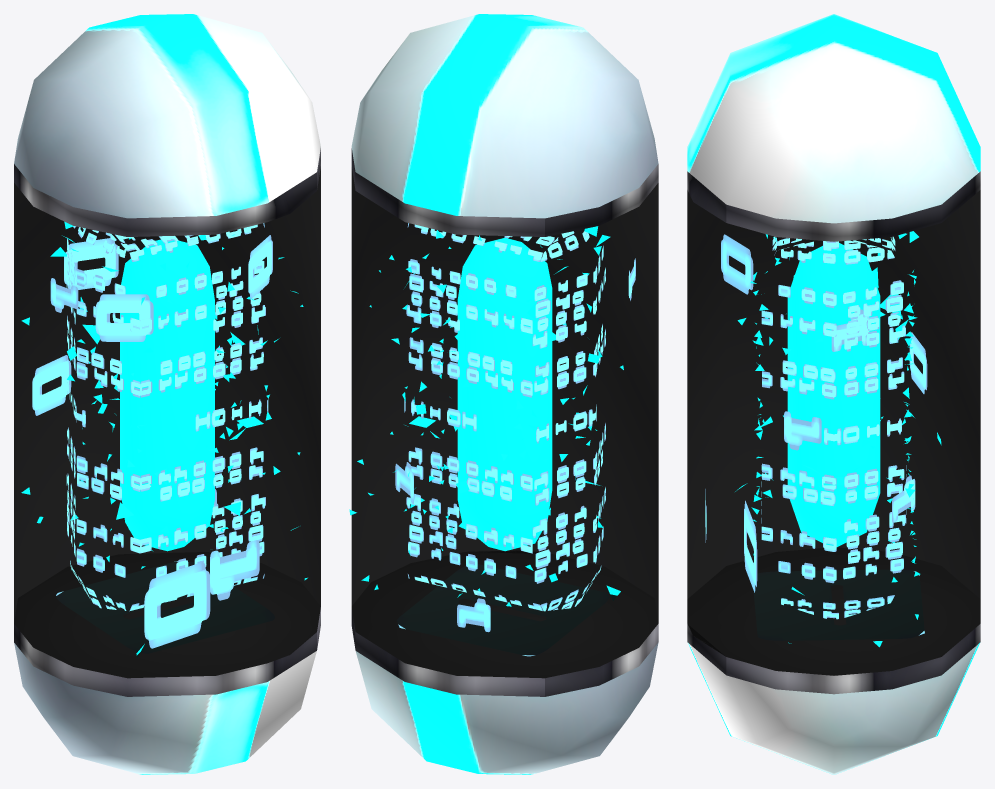
The model's file is obj_pill.gltf.
3 views of the same model, side by side, from view 1: azimuth 30°, elevation 25°; view 2: azimuth 150°, elevation 25°; view 3: azimuth 270°, elevation 25° (orthographic).
Parts seen in each view (by area): view 1: obj_pill; view 2: obj_pill; view 3: obj_pill.
Boxes of the visible parts, x1,y1,x2,y2 form: obj_pill: [14, 14, 320, 774]; obj_pill: [349, 14, 658, 774]; obj_pill: [687, 14, 980, 774].
Size of what is drawn, in the model's own units: 0.1504 by 0.4011 by 0.1446.
Materials: 3 (2 with a texture image).
